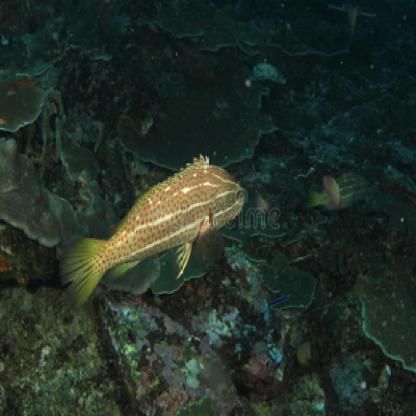Serranidae -Groupers-: (65, 151, 250, 321)
